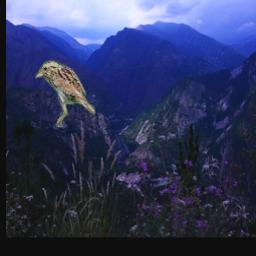Sparrow: (35, 60, 95, 127)
